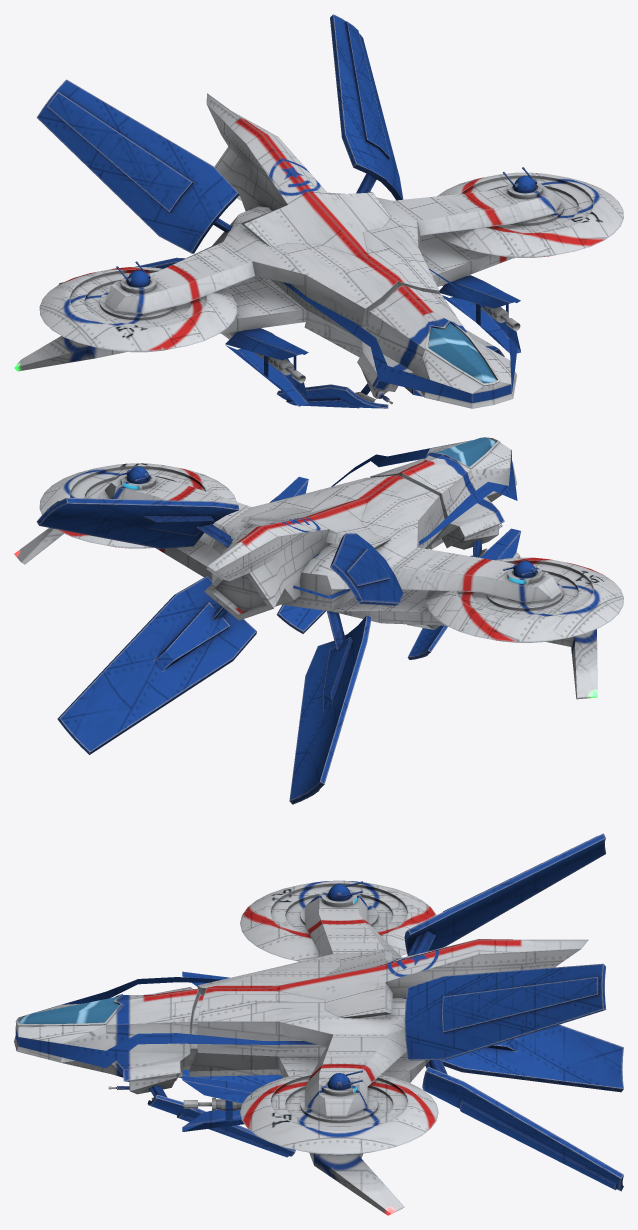
Rendered from Miyuki.glb.
The picture shows the model from 3 angles, top to bottom: view 1: azimuth 30°, elevation 25°; view 2: azimuth 150°, elevation 25°; view 3: azimuth 270°, elevation 25°; orthographic projection.
Parts seen in each view (by area): view 1: Плоскость; view 2: Плоскость; view 3: Плоскость.
Boxes of the visible parts, <box> form: Плоскость: <box>14,14,623,408</box>; Плоскость: <box>14,437,623,804</box>; Плоскость: <box>14,833,623,1215</box>.
Bounding box in the file's own units: 0.9924 × 0.3948 × 0.8963.
4 materials, 4 textured.
